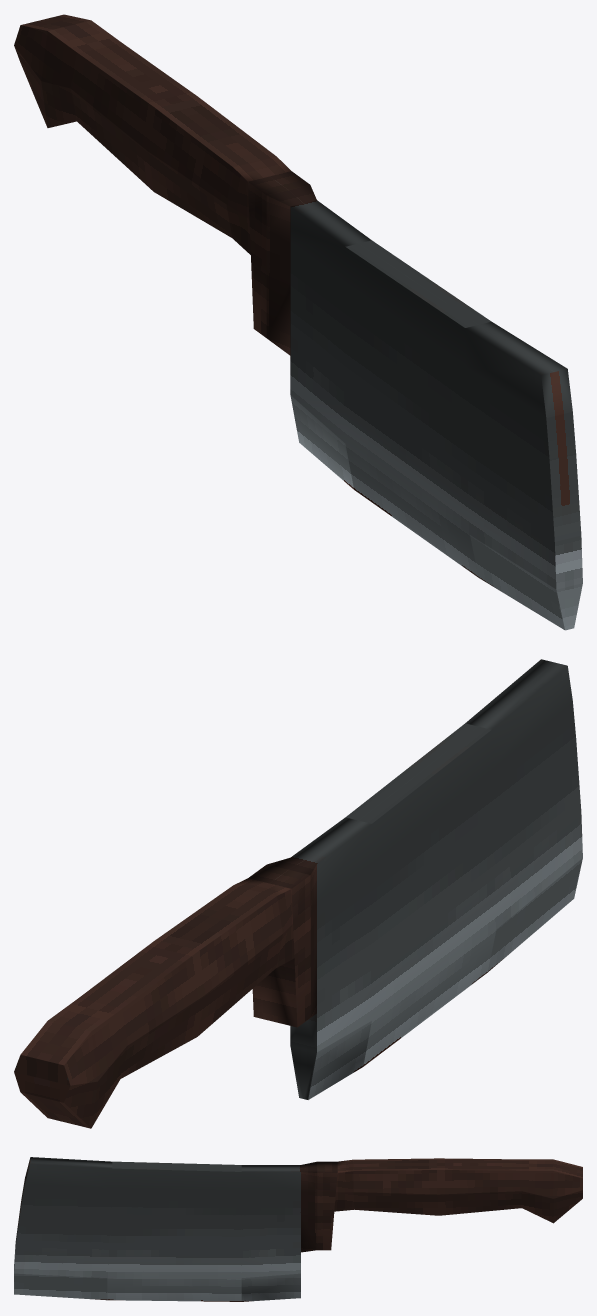
File: E_Cleaver.fbx
3 views of the same model, one above another, from view 1: azimuth 30°, elevation 25°; view 2: azimuth 150°, elevation 25°; view 3: azimuth 270°, elevation 25° (orthographic). The views are drawn at different scales.
Parts seen in each view (by area): view 1: KNIFE; view 2: KNIFE; view 3: KNIFE.
Part boxes in pixels (left/top/right/bottom): KNIFE: left=14, top=14, right=582, bottom=630; KNIFE: left=14, top=659, right=582, bottom=1128; KNIFE: left=14, top=1157, right=582, bottom=1301.
Bounding box in the file's own units: 42.3 × 186 × 684.
